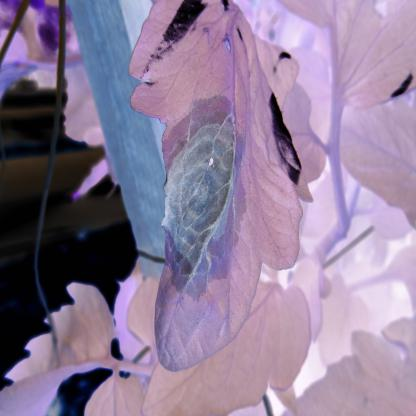tomato leaf late blight: (127, 3, 324, 384)
